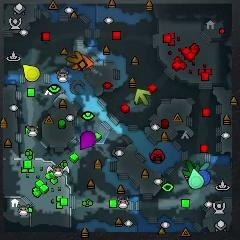p1: (197, 170, 212, 187)
p2: (188, 169, 204, 189)
p3: (81, 131, 96, 149)
p4: (23, 64, 41, 81)
p5: (81, 55, 93, 70)
x2: (134, 89, 151, 107)
x3: (197, 161, 210, 172)
x4: (185, 159, 200, 175)
x5: (66, 50, 83, 69)
